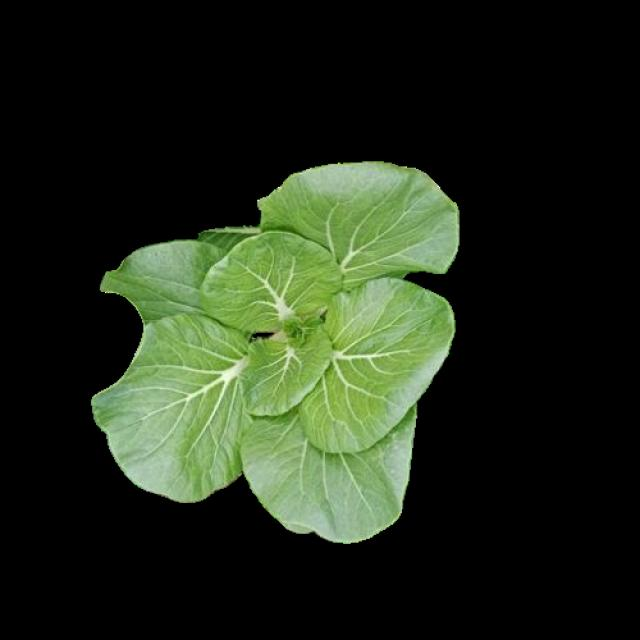healthy: (92, 164, 454, 539)
mature: (95, 166, 457, 542)
